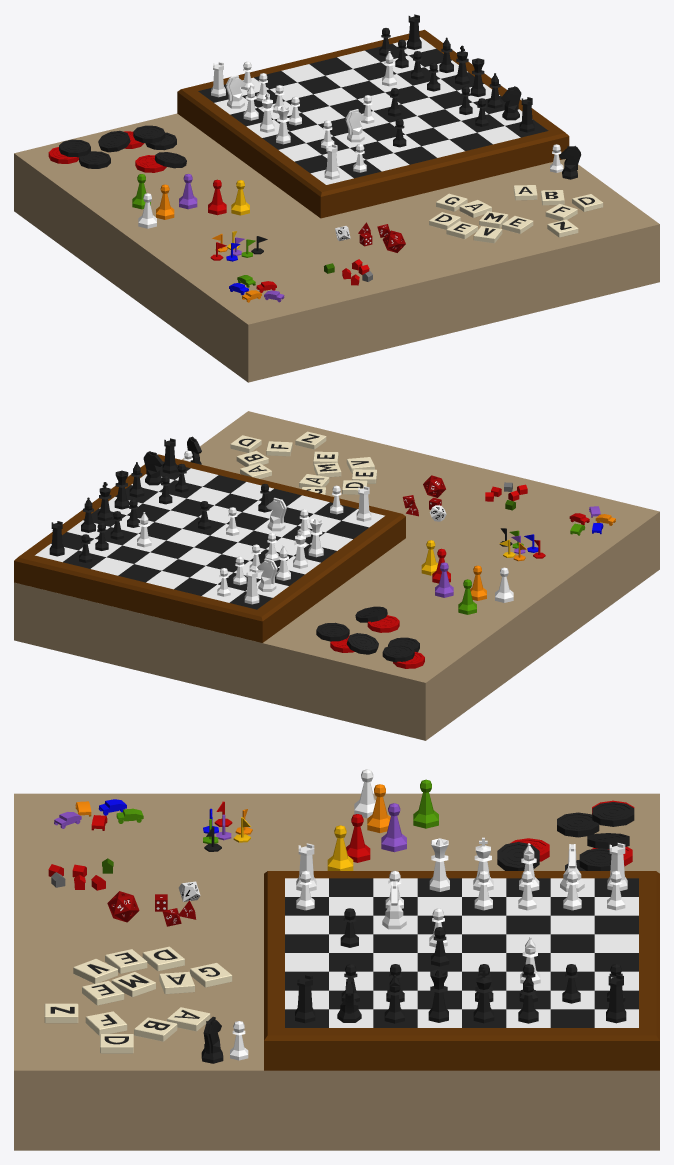
File: Boardgame.fbx
3 views of the same model, one above another, from view 1: azimuth 30°, elevation 25°; view 2: azimuth 150°, elevation 25°; view 3: azimuth 270°, elevation 25° (orthographic). The views are drawn at different scales.
Parts seen in each view (by area): view 1: Cube, Boardgame_Chess_Checkers_Board_01, Boardgame, Boardgame_Draughts_Checkers_Men_Black_01 (4), Boardgame_Chess_Piece_Knight_Black_01, Boardgame_Chess_Piece_Knight_Black_01 (1); view 2: Cube, Boardgame_Chess_Checkers_Board_01, Boardgame, Boardgame_Draughts_Checkers_Men_Black_01 (4), Boardgame_Chess_Piece_Knight_Black_01 (1), Boardgame_Chess_Piece_Knight_White_01 (1), Boardgame_Chess_Piece_Knight_White_01, Boardgame_Draughts_Checkers_Men_Black_01 (2); view 3: Cube, Boardgame_Chess_Checkers_Board_01, Boardgame, Boardgame_Draughts_Checkers_Men_Black_01 (2), Boardgame_Draughts_Checkers_Men_Black_01 (1), Boardgame_Draughts_Checkers_Men_Black_01 (3), Boardgame_Chess_Piece_Queen_White_01, Boardgame_Chess_Piece_Queen_Black_01, Boardgame_Chess_Piece_King_Black_01, Boardgame_Chess_Piece_Knight_Black_01, Boardgame_Chess_Piece_Castle_Rook_Black_01 (1), Boardgame_Chess_Piece_Castle_Rook_Black_01 (+11 smaller).
Part boxes in pixels (bbox=[...]): Cube: bbox=[14, 113, 659, 382]; Boardgame_Chess_Checkers_Board_01: bbox=[177, 29, 569, 218]; Boardgame: bbox=[48, 125, 578, 302]; Boardgame_Draughts_Checkers_Men_Black_01 (4): bbox=[98, 130, 130, 152]; Boardgame_Chess_Piece_Knight_Black_01: bbox=[559, 146, 581, 179]; Boardgame_Chess_Piece_Knight_Black_01 (1): bbox=[501, 86, 521, 120]; Cube: bbox=[14, 411, 659, 740]; Boardgame_Chess_Checkers_Board_01: bbox=[14, 454, 405, 642]; Boardgame: bbox=[236, 431, 615, 668]; Boardgame_Draughts_Checkers_Men_Black_01 (4): bbox=[346, 633, 378, 654]; Boardgame_Chess_Piece_Knight_Black_01 (1): bbox=[143, 451, 164, 485]; Boardgame_Chess_Piece_Knight_White_01 (1): bbox=[266, 497, 286, 531]; Boardgame_Chess_Piece_Knight_White_01: bbox=[257, 558, 277, 591]; Boardgame_Draughts_Checkers_Men_Black_01 (2): bbox=[382, 644, 414, 662]; Cube: bbox=[14, 793, 659, 1150]; Boardgame_Chess_Checkers_Board_01: bbox=[264, 871, 659, 1070]; Boardgame: bbox=[44, 769, 634, 1041]; Boardgame_Draughts_Checkers_Men_Black_01 (2): bbox=[592, 802, 634, 826]; Boardgame_Draughts_Checkers_Men_Black_01 (1): bbox=[557, 812, 599, 837]; Boardgame_Draughts_Checkers_Men_Black_01 (3): bbox=[497, 842, 539, 870]; Boardgame_Chess_Piece_Queen_White_01: bbox=[429, 838, 449, 891]; Boardgame_Chess_Piece_Queen_Black_01: bbox=[428, 969, 448, 1022]; Boardgame_Chess_Piece_King_Black_01: bbox=[473, 969, 494, 1023]; Boardgame_Chess_Piece_Knight_Black_01: bbox=[201, 1016, 223, 1063]; Boardgame_Chess_Piece_Castle_Rook_Black_01 (1): bbox=[295, 974, 315, 1023]; Boardgame_Chess_Piece_Castle_Rook_Black_01: bbox=[606, 974, 626, 1023].
Size of the model in its own units: 10.62 by 2.91 by 10.46.
